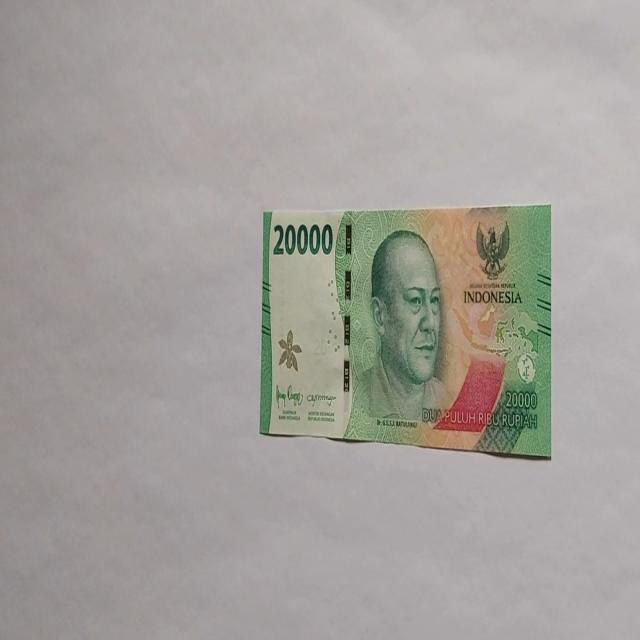dua puluh ribu rupiah: (259, 203, 552, 457)
